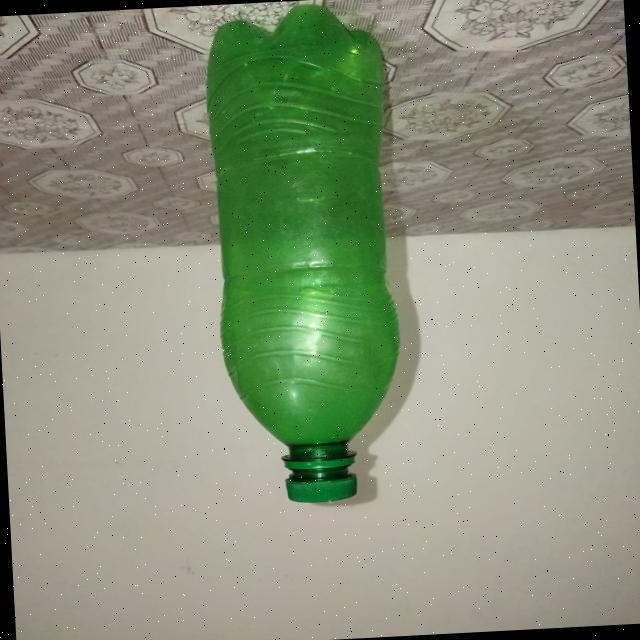bottle: (187, 2, 430, 520)
cap: (264, 438, 376, 515)
